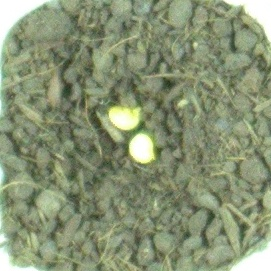chilli seed: (106, 103, 143, 132), (126, 133, 157, 165)
